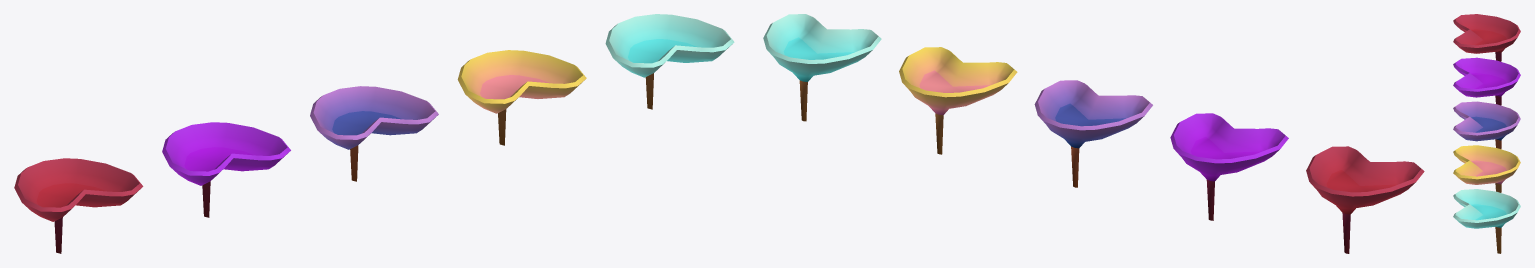
The model's file is Coral Reef Set6.glb.
The picture shows the model from 3 angles, left to right: view 1: azimuth 30°, elevation 25°; view 2: azimuth 150°, elevation 25°; view 3: azimuth 270°, elevation 25°; orthographic projection. The views are drawn at different scales.
Parts seen in each view (by area): view 1: F_CoralReef.001, F_CoralReef.004, F_CoralReef, F_CoralReef.002, F_CoralReef.003; view 2: F_CoralReef.001, F_CoralReef, F_CoralReef.002, F_CoralReef.003, F_CoralReef.004; view 3: F_CoralReef.003, F_CoralReef, F_CoralReef.004, F_CoralReef.001, F_CoralReef.002.
Part boxes in pixels (bbox=[...]): F_CoralReef.001: bbox=[310, 86, 438, 181]; F_CoralReef.004: bbox=[14, 158, 143, 253]; F_CoralReef: bbox=[457, 50, 586, 145]; F_CoralReef.002: bbox=[162, 122, 290, 217]; F_CoralReef.003: bbox=[605, 14, 734, 109]; F_CoralReef.001: bbox=[1034, 80, 1152, 187]; F_CoralReef: bbox=[899, 47, 1017, 154]; F_CoralReef.002: bbox=[1170, 113, 1288, 220]; F_CoralReef.003: bbox=[763, 14, 881, 121]; F_CoralReef.004: bbox=[1306, 146, 1424, 253]; F_CoralReef.003: bbox=[1453, 189, 1520, 253]; F_CoralReef: bbox=[1453, 145, 1520, 192]; F_CoralReef.004: bbox=[1453, 14, 1520, 61]; F_CoralReef.001: bbox=[1453, 101, 1520, 148]; F_CoralReef.002: bbox=[1453, 57, 1520, 105].
Bounding box in the file's own units: 9.52 × 1.05 × 1.31.
1 material, 1 textured.
